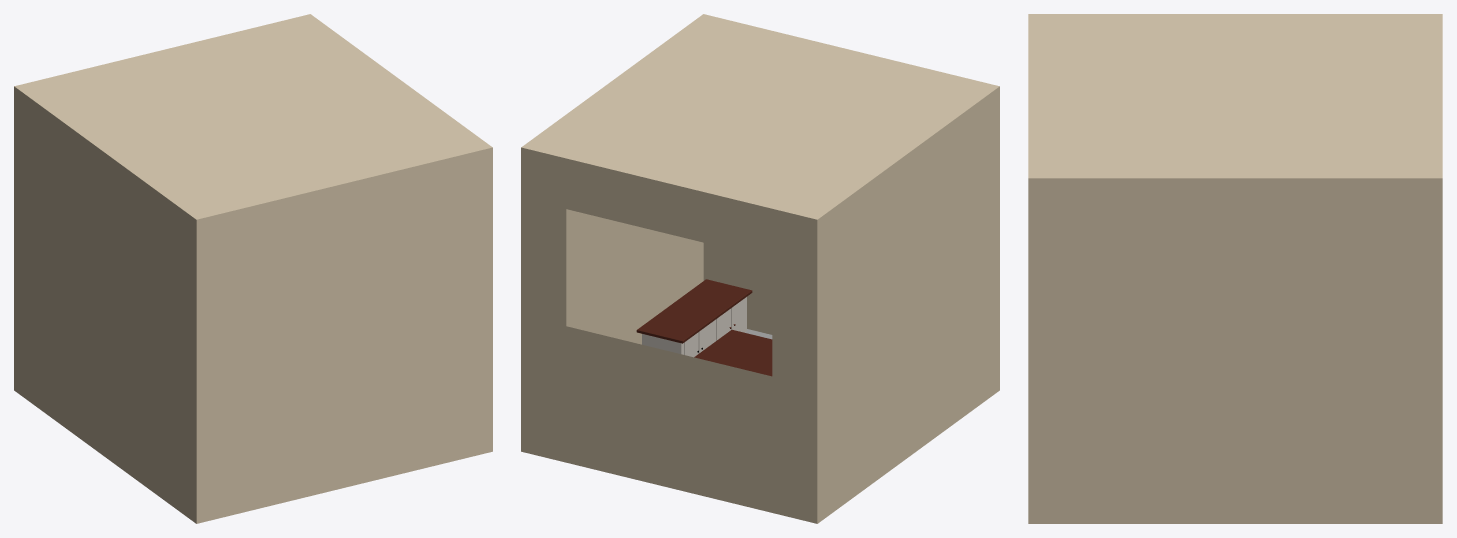
Rendered from art room.fbx.
The picture shows the model from 3 angles, left to right: view 1: azimuth 30°, elevation 25°; view 2: azimuth 150°, elevation 25°; view 3: azimuth 270°, elevation 25°; orthographic projection. The views are drawn at different scales.
Parts seen in each view (by area): view 1: polySurface270; view 2: polySurface270, polySurface289, polySurface313; view 3: polySurface270.
Part boxes in pixels (<box>): polySurface270: <box>14,14,492,523</box>; polySurface270: <box>521,14,999,523</box>; polySurface289: <box>636,279,752,354</box>; polySurface313: <box>694,329,772,376</box>; polySurface270: <box>1028,14,1442,523</box>.
Bounding box in the file's own units: 2305 × 2288 × 2457.
